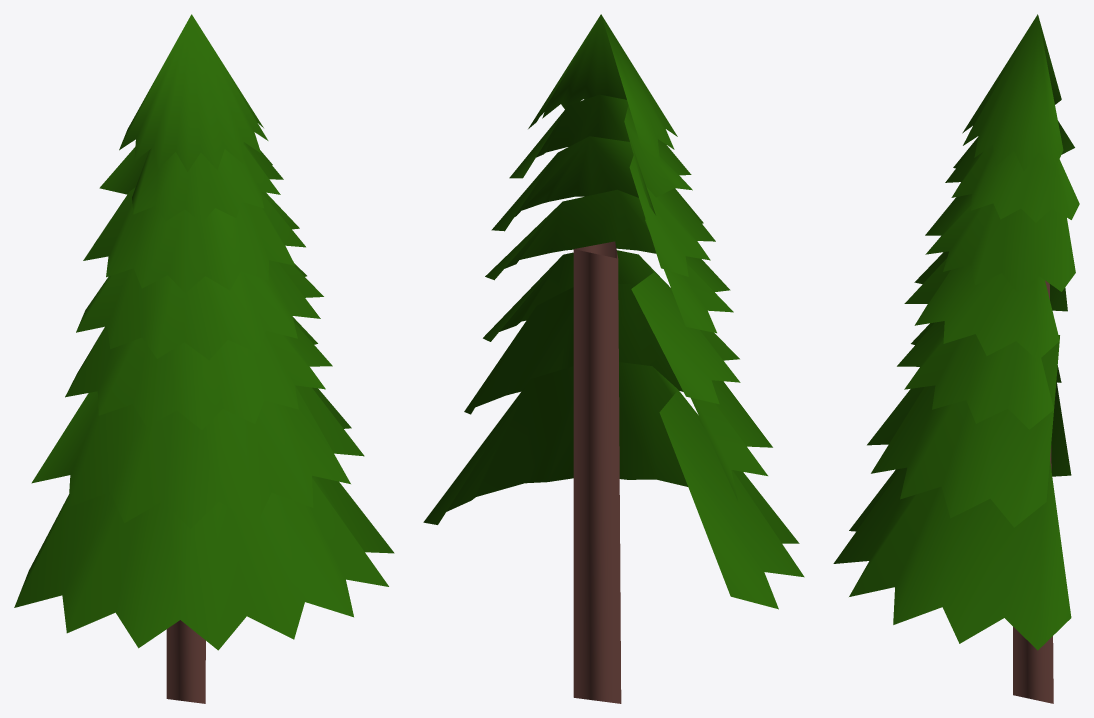
The model's file is Pine1LP.fbx.
3 views of the same model, side by side, from view 1: azimuth 30°, elevation 25°; view 2: azimuth 150°, elevation 25°; view 3: azimuth 270°, elevation 25° (orthographic).
Parts seen in each view (by area): view 1: Pine1LP; view 2: Pine1LP; view 3: Pine1LP.
Boxes of the visible parts, x1=… form: Pine1LP: x1=14, y1=14, x2=394, y2=703; Pine1LP: x1=423, y1=14, x2=804, y2=703; Pine1LP: x1=833, y1=14, x2=1079, y2=703.
Bounding box in the file's own units: 200 × 367 × 120.
